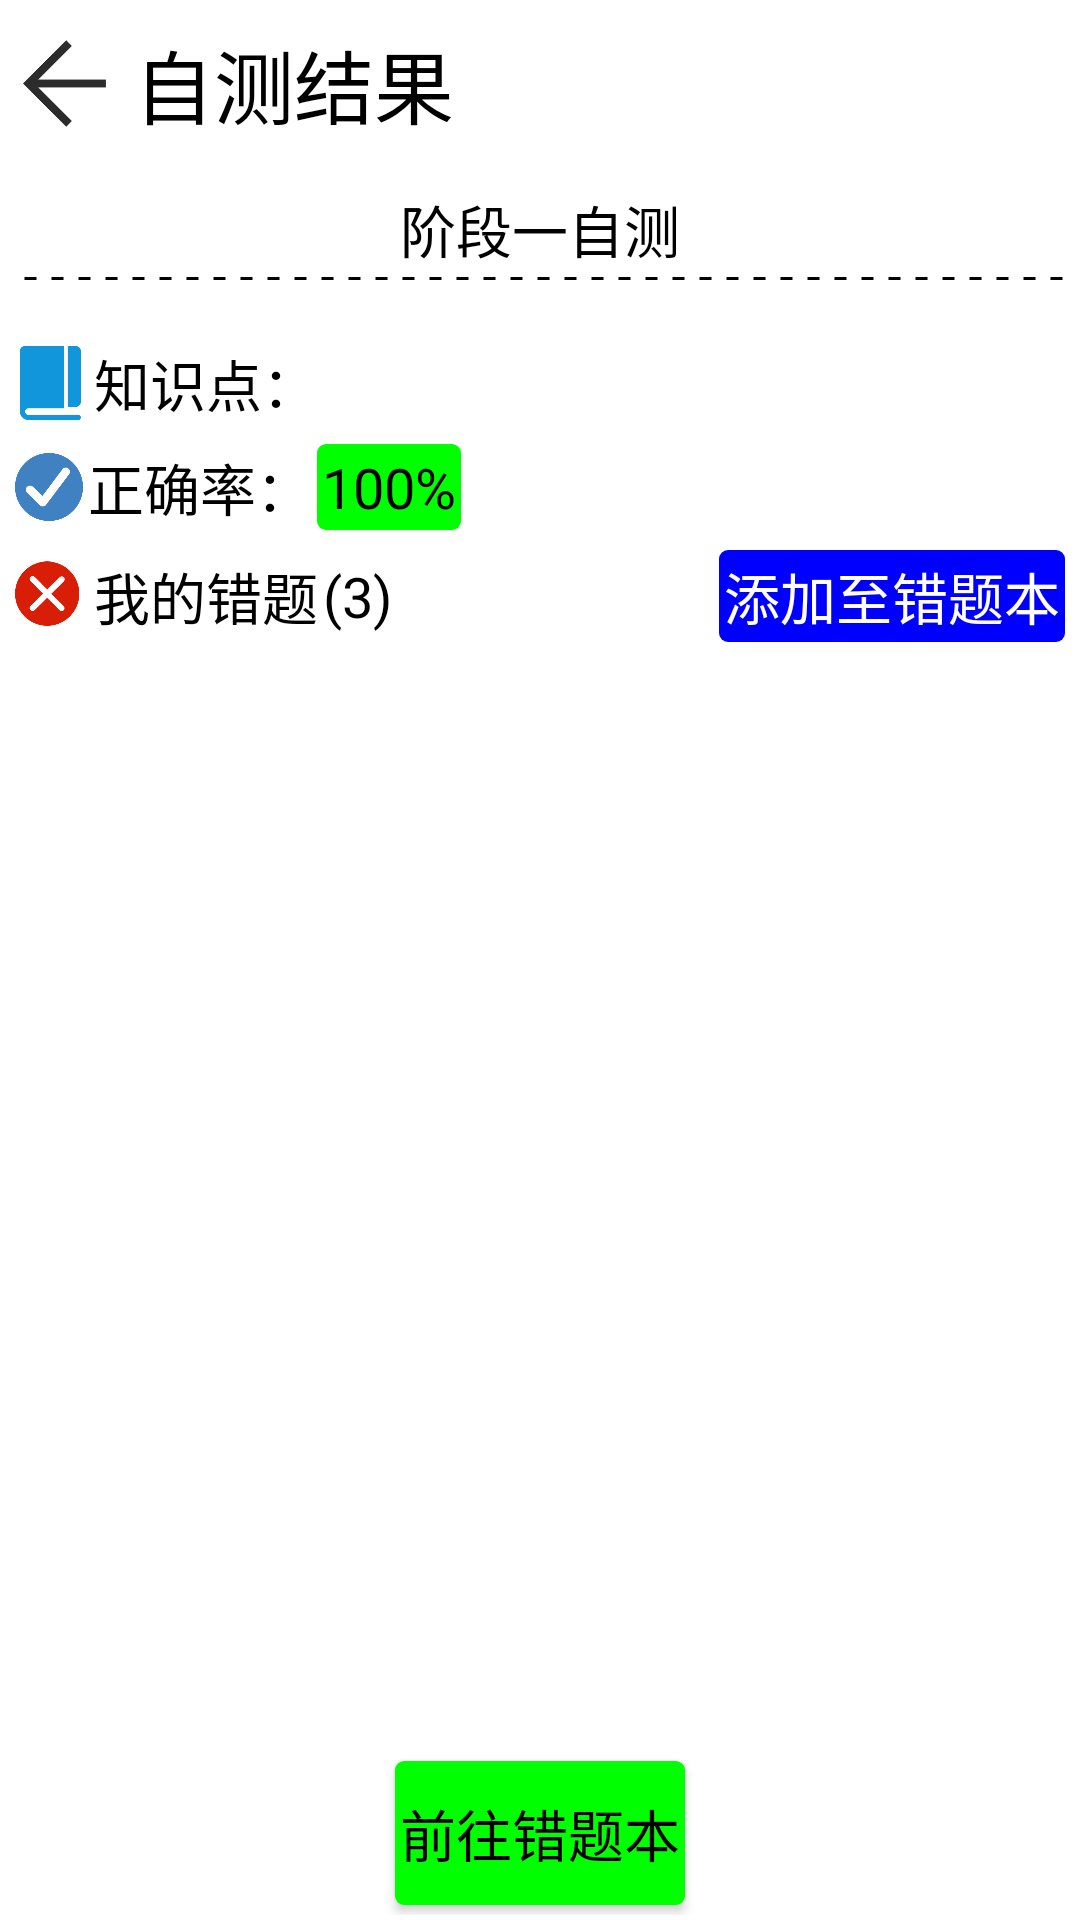

Named icons in this screenshot (1080px×1920px) and their centers, (x,y):
pic back: (64,83)
pic wrong: (47,593)
